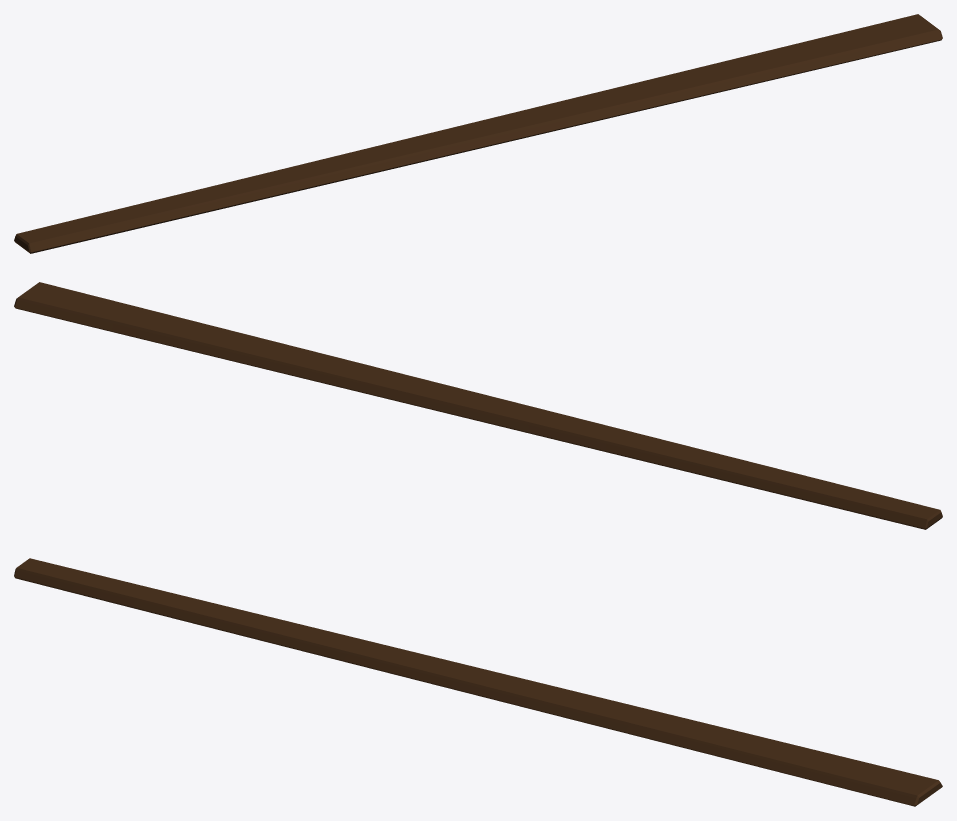
Rendered from BridgePlank03.FBX.
3 views of the same model, one above another, from view 1: azimuth 30°, elevation 25°; view 2: azimuth 150°, elevation 25°; view 3: azimuth 330°, elevation 25° (orthographic).
Parts seen in each view (by area): view 1: Plank003; view 2: Plank003; view 3: Plank003.
Part boxes in pixels (box(x1,y1,x2,y2)): Plank003: box(14, 14, 942, 253); Plank003: box(14, 282, 942, 529); Plank003: box(14, 558, 942, 806).
Size of the model in its own units: 500 by 5 by 26.31.
